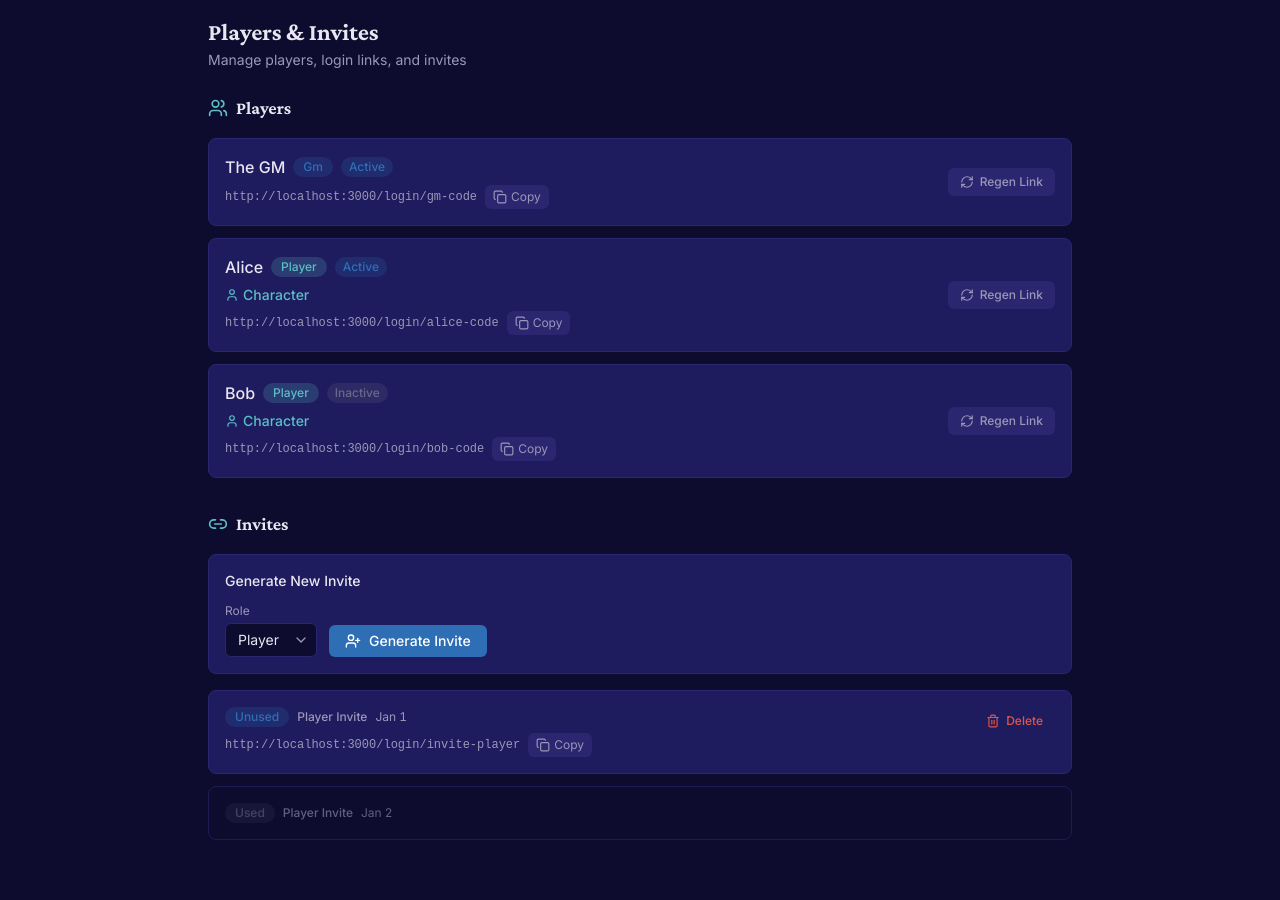
Scenario: GmPlayersPage — invite management › shows error toast when delete fails
Click the button with aria-label "delete invite". click: (1015, 721)
box: x1=974 y1=707 x2=1055 y2=735
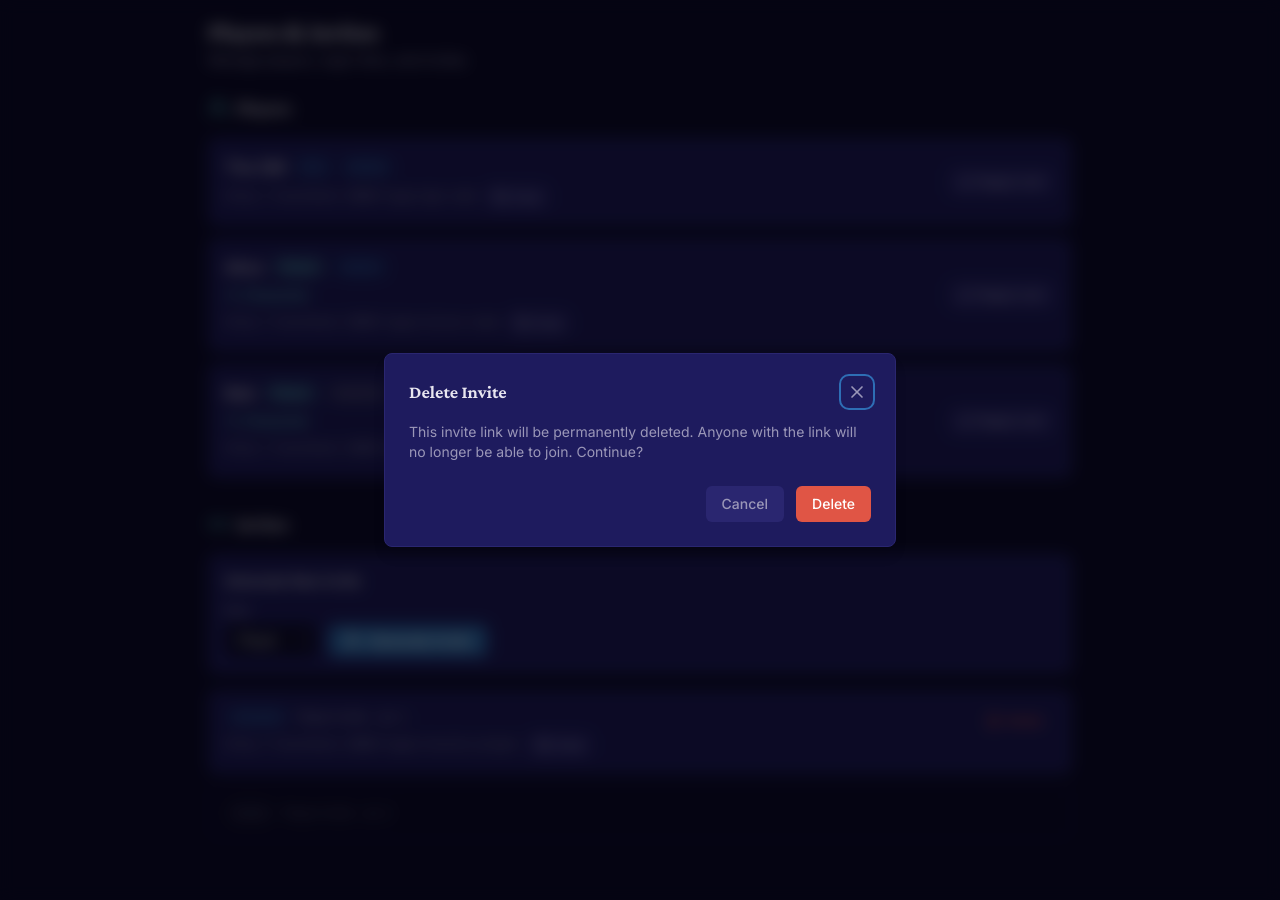
Click the button "Delete". click: (834, 504)
box: x1=796 y1=486 x2=871 y2=522
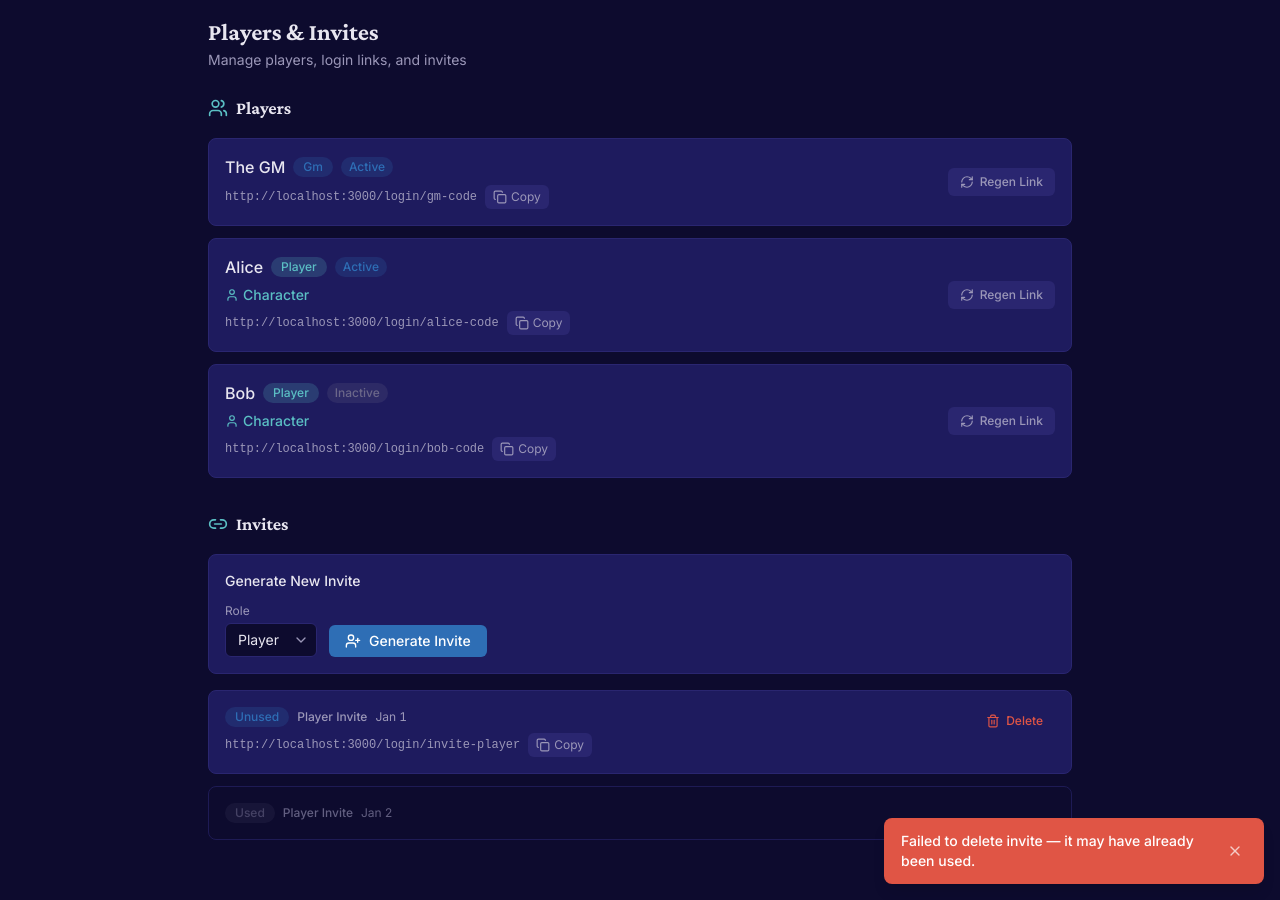
Result: the text "Failed to delete invite — it may have already been used." is shown at x1=901 y1=831 x2=1211 y2=871
